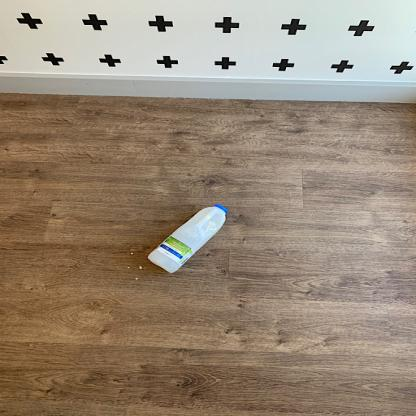trash: (146, 204, 232, 278)
